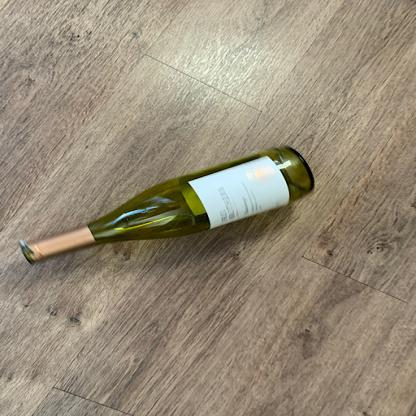trash: (17, 143, 316, 268)
